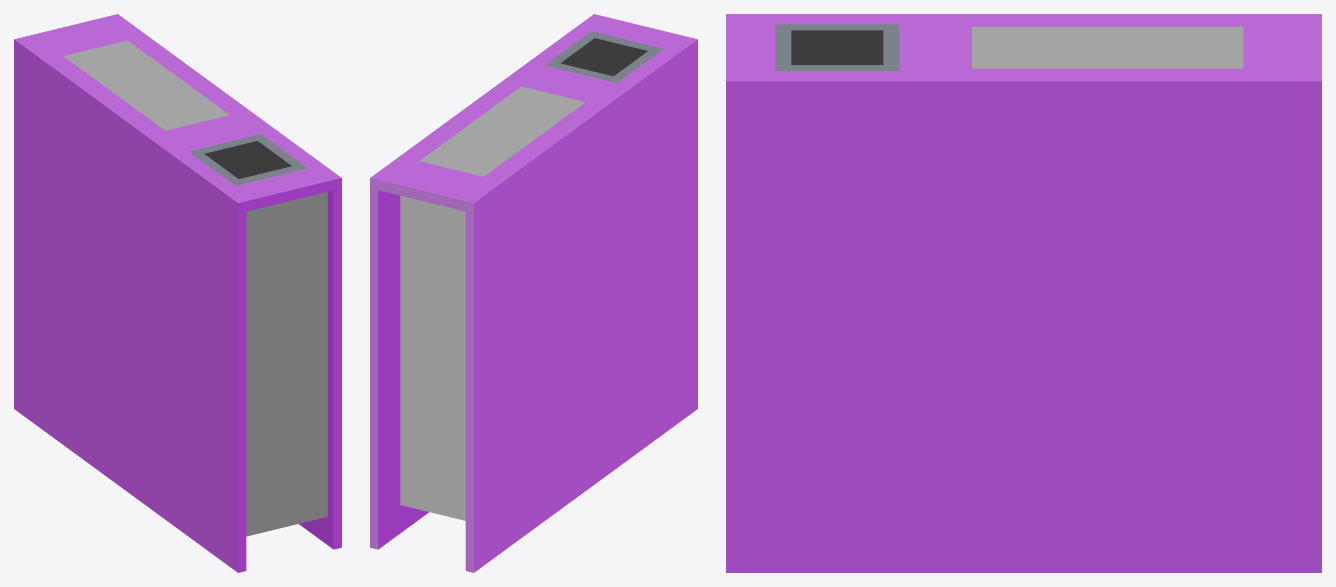
File: BoxFile4.glb
3 views of the same model, side by side, from view 1: azimuth 30°, elevation 25°; view 2: azimuth 150°, elevation 25°; view 3: azimuth 270°, elevation 25° (orthographic). The views are drawn at different scales.
Visible parts, largest first — view 1: SO_Boxfile_07; view 2: SO_Boxfile_07; view 3: SO_Boxfile_07.
Part boxes in pixels (bbox=[...]): SO_Boxfile_07: bbox=[14, 14, 341, 572]; SO_Boxfile_07: bbox=[370, 14, 697, 572]; SO_Boxfile_07: bbox=[726, 14, 1321, 572].
Size of the model in its own units: 0.1745 by 0.5946 by 0.6529.
1 material, 1 textured.
